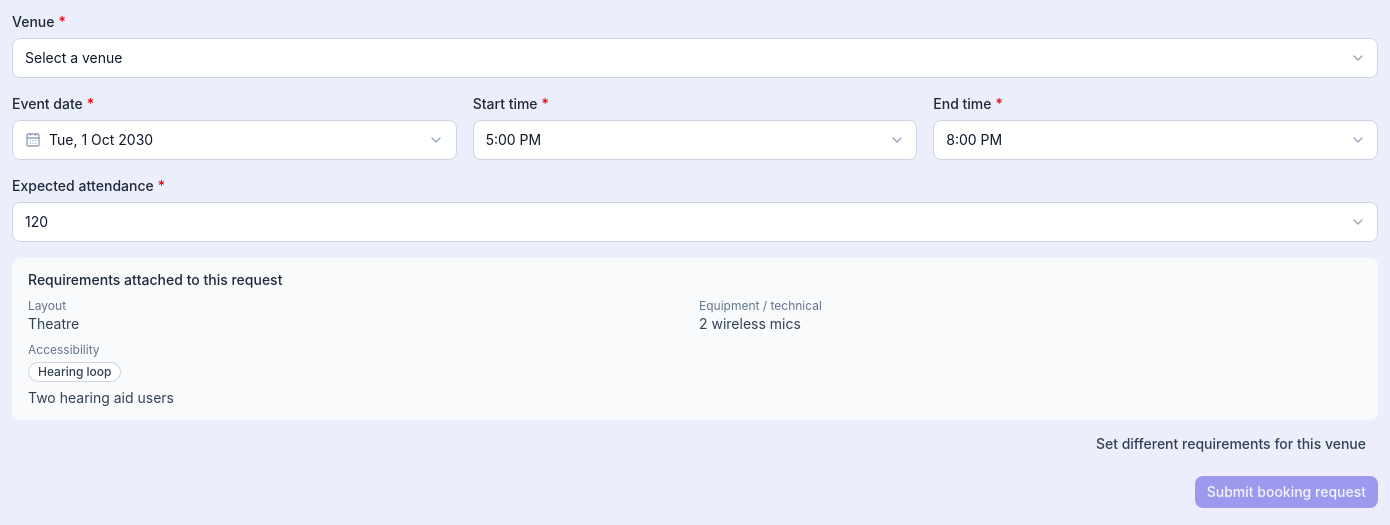
Test: US-20 AC-1: date, times and attendance are required › keeps Submit disabled until the venue, date, times and attendance are all filled in
Check: the button "Submit booking request" is disabled, box [1195, 476, 1378, 508]
Select "Main Hall (capacity 300)" in the dropdown labelled "Venue*" at (695,58), box [12, 38, 1378, 78]
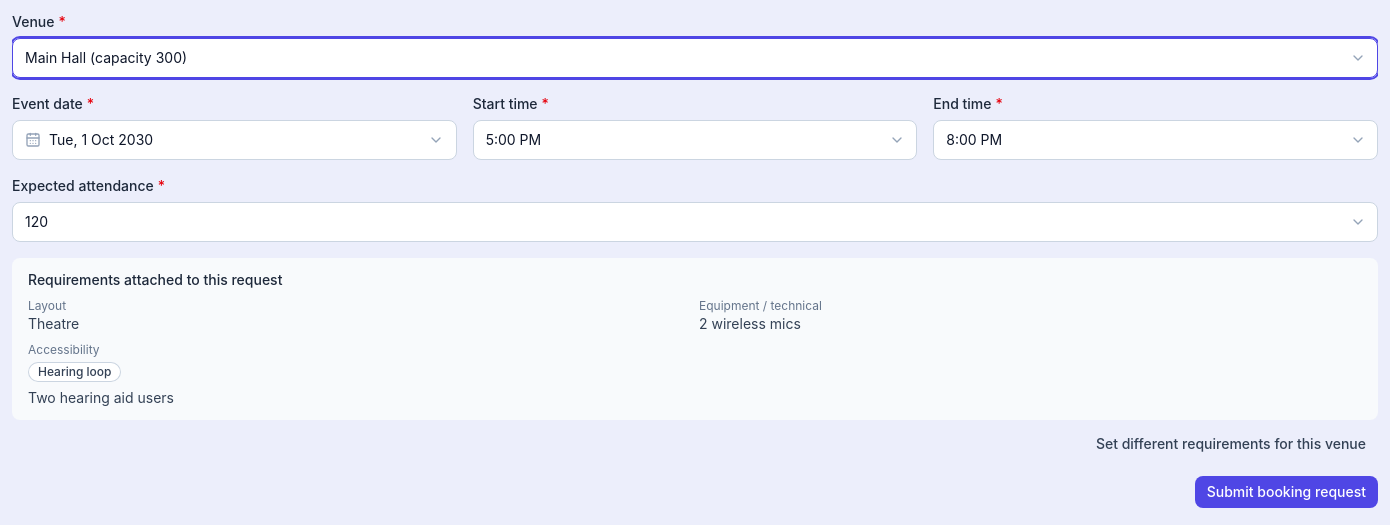
Check: the button "Submit booking request" is enabled, box [1195, 476, 1378, 508]
Select "Select a time" in the dropdown labelled "Start time*" at (695,140), box [473, 120, 917, 160]
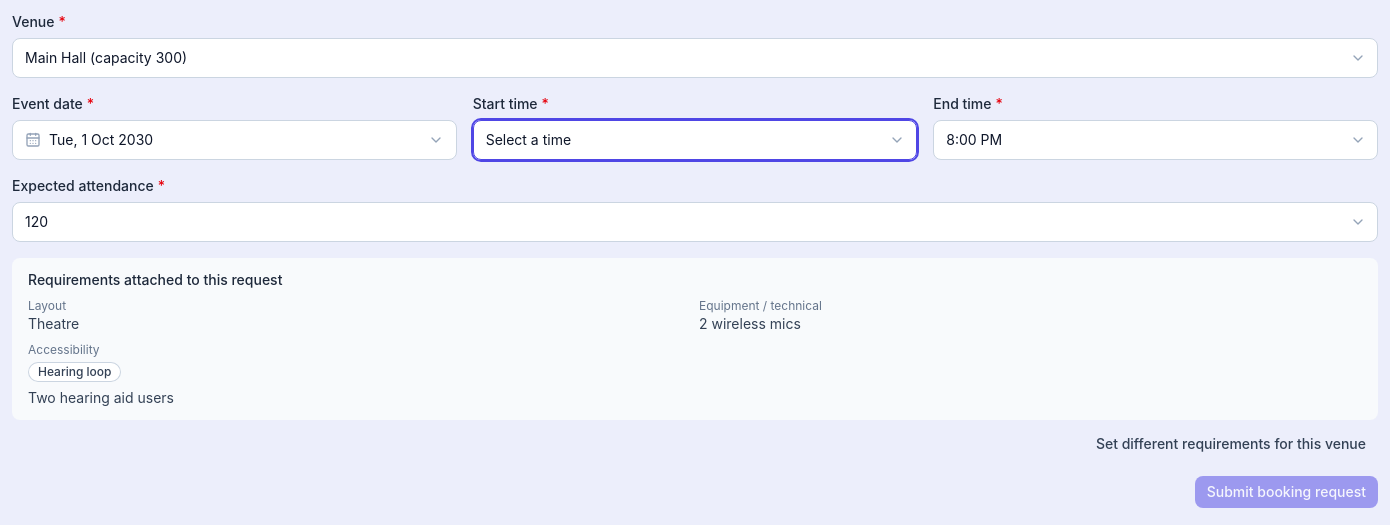
Check: the button "Submit booking request" is disabled, box [1195, 476, 1378, 508]
